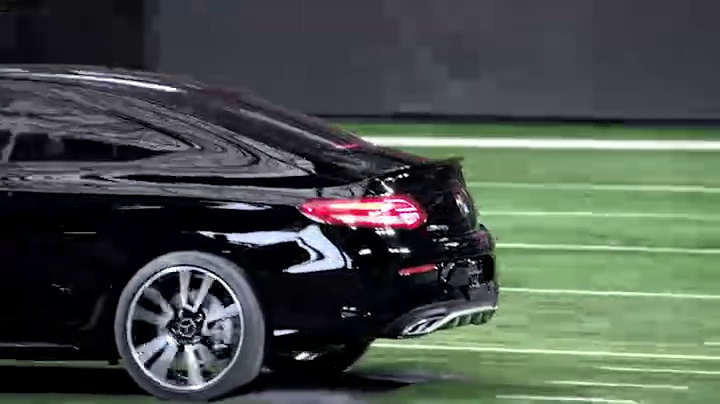amg: (1, 61, 500, 400)
